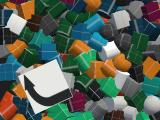Right: (18, 59, 73, 115)
